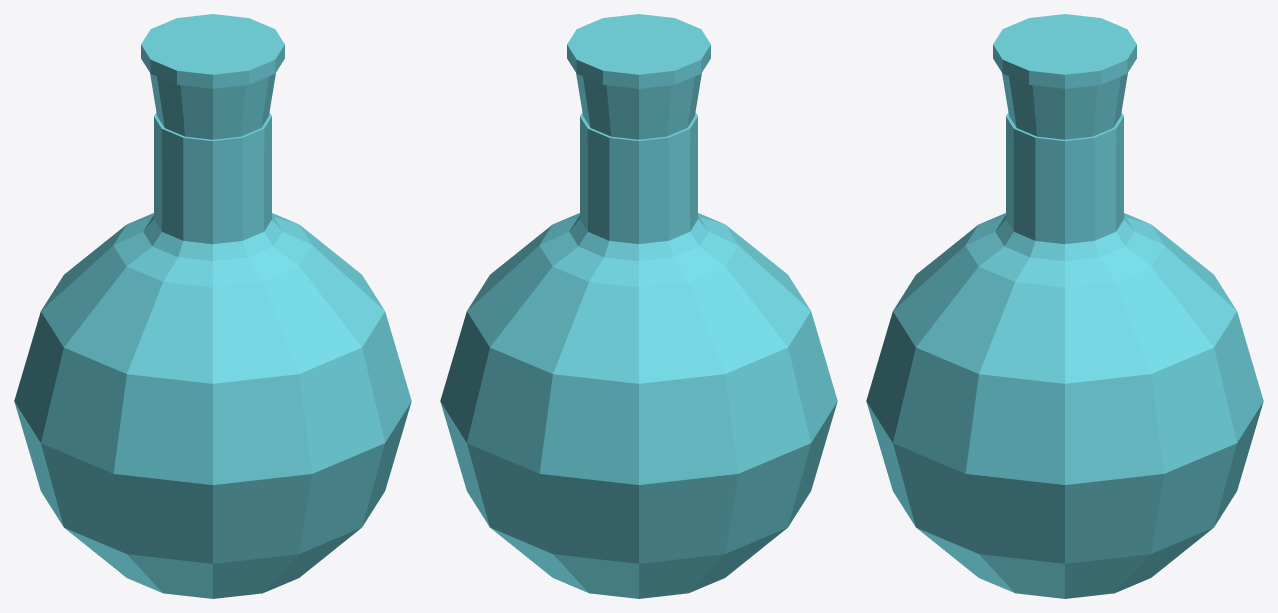
File: SM_Flask_3_B.glb
3 renders of one model, left to right at view 1: azimuth 30°, elevation 25°; view 2: azimuth 150°, elevation 25°; view 3: azimuth 270°, elevation 25°, orthographic.
Parts seen in each view (by area): view 1: SM_Flask_3_B, SM_Flask_Lid_B; view 2: SM_Flask_3_B, SM_Flask_Lid_B; view 3: SM_Flask_3_B, SM_Flask_Lid_B.
Part boxes in pixels (x1,y1,x2,y2): SM_Flask_3_B: (14,112,411,598); SM_Flask_Lid_B: (141,14,284,139); SM_Flask_3_B: (440,112,837,598); SM_Flask_Lid_B: (567,14,710,139); SM_Flask_3_B: (866,112,1263,598); SM_Flask_Lid_B: (993,14,1136,139).
Size of the model in its own units: 0.2142 by 0.316 by 0.2142.
